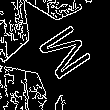M_SW: (23, 17, 89, 83)
